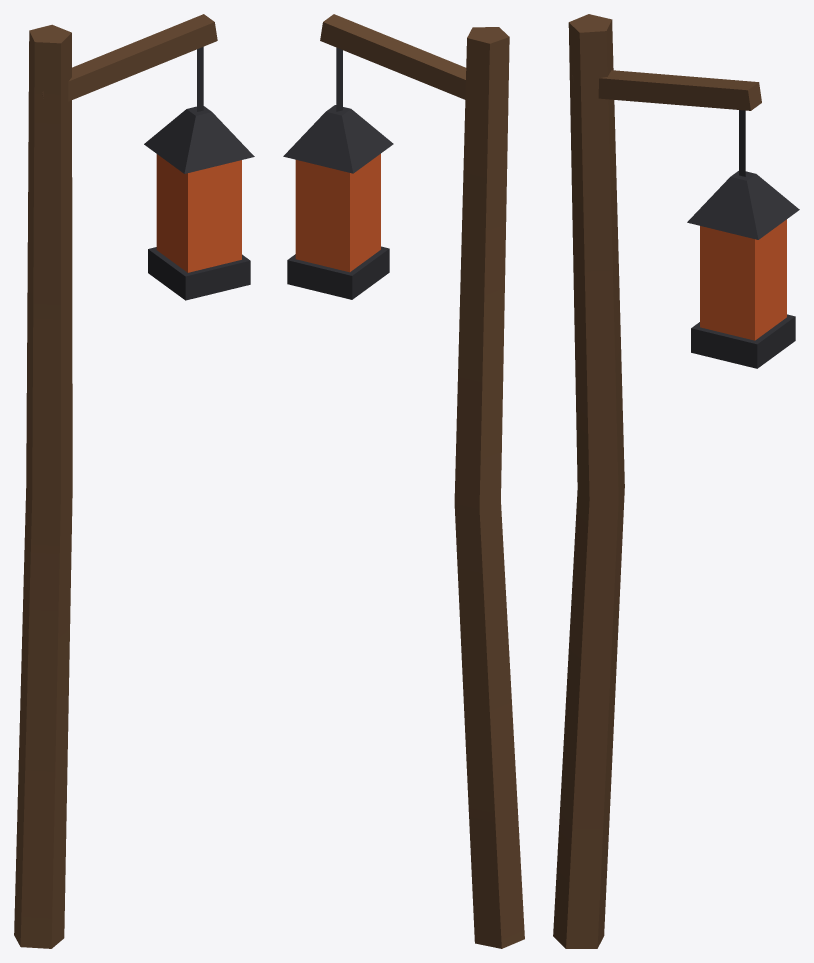
The model's file is LanternPost.fbx.
The picture shows the model from 3 angles, left to right: view 1: azimuth 30°, elevation 25°; view 2: azimuth 150°, elevation 25°; view 3: azimuth 330°, elevation 25°; orthographic projection. The views are drawn at different scales.
Parts seen in each view (by area): view 1: LanternPost; view 2: LanternPost; view 3: LanternPost.
Boxes of the visible parts, x1=… form: LanternPost: x1=14, y1=14, x2=254, y2=948; LanternPost: x1=283, y1=14, x2=524, y2=948; LanternPost: x1=553, y1=14, x2=799, y2=948.
Bounding box in the file's own units: 0.5689 × 2.25 × 0.1838.
